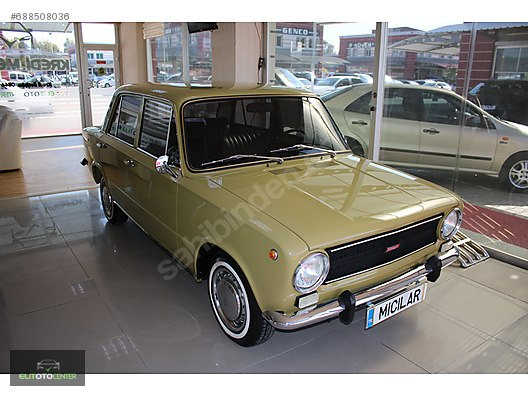murat: (77, 79, 466, 346)
